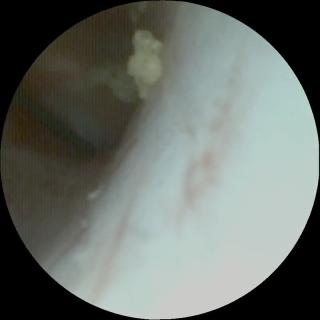stone: (129, 31, 161, 97), (87, 61, 136, 102)
tissue: (4, 8, 316, 315)
